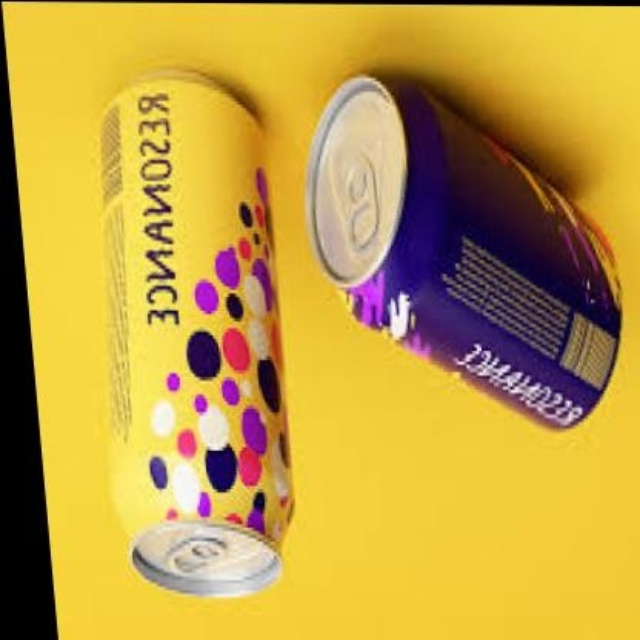trash: (306, 75, 620, 426), (102, 71, 291, 594)
